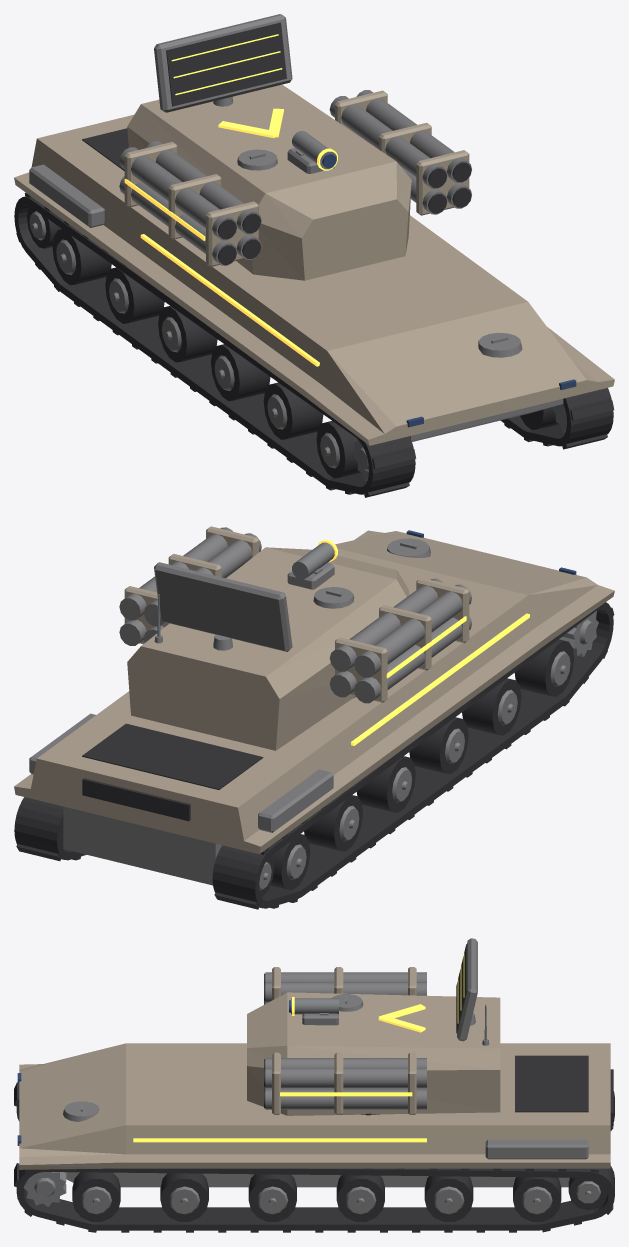
The model's file is ad_red.glb.
3 views of the same model, one above another, from view 1: azimuth 30°, elevation 25°; view 2: azimuth 150°, elevation 25°; view 3: azimuth 270°, elevation 25° (orthographic). The views are drawn at different scales.
Parts seen in each view (by area): view 1: body, turret, gun; view 2: body, turret, gun; view 3: body, turret, gun.
Boxes of the visible parts, <box> form: body: <box>14,114,614,497</box>; turret: <box>127,14,411,280</box>; gun: <box>119,90,471,266</box>; body: <box>14,530,614,909</box>; turret: <box>127,539,409,750</box>; gun: <box>119,526,471,703</box>; body: <box>14,1043,614,1232</box>; turret: <box>247,938,500,1115</box>; gun: <box>264,967,426,1114</box>.
Size of the model in its own units: 3.45 by 3.32 by 8.18.
